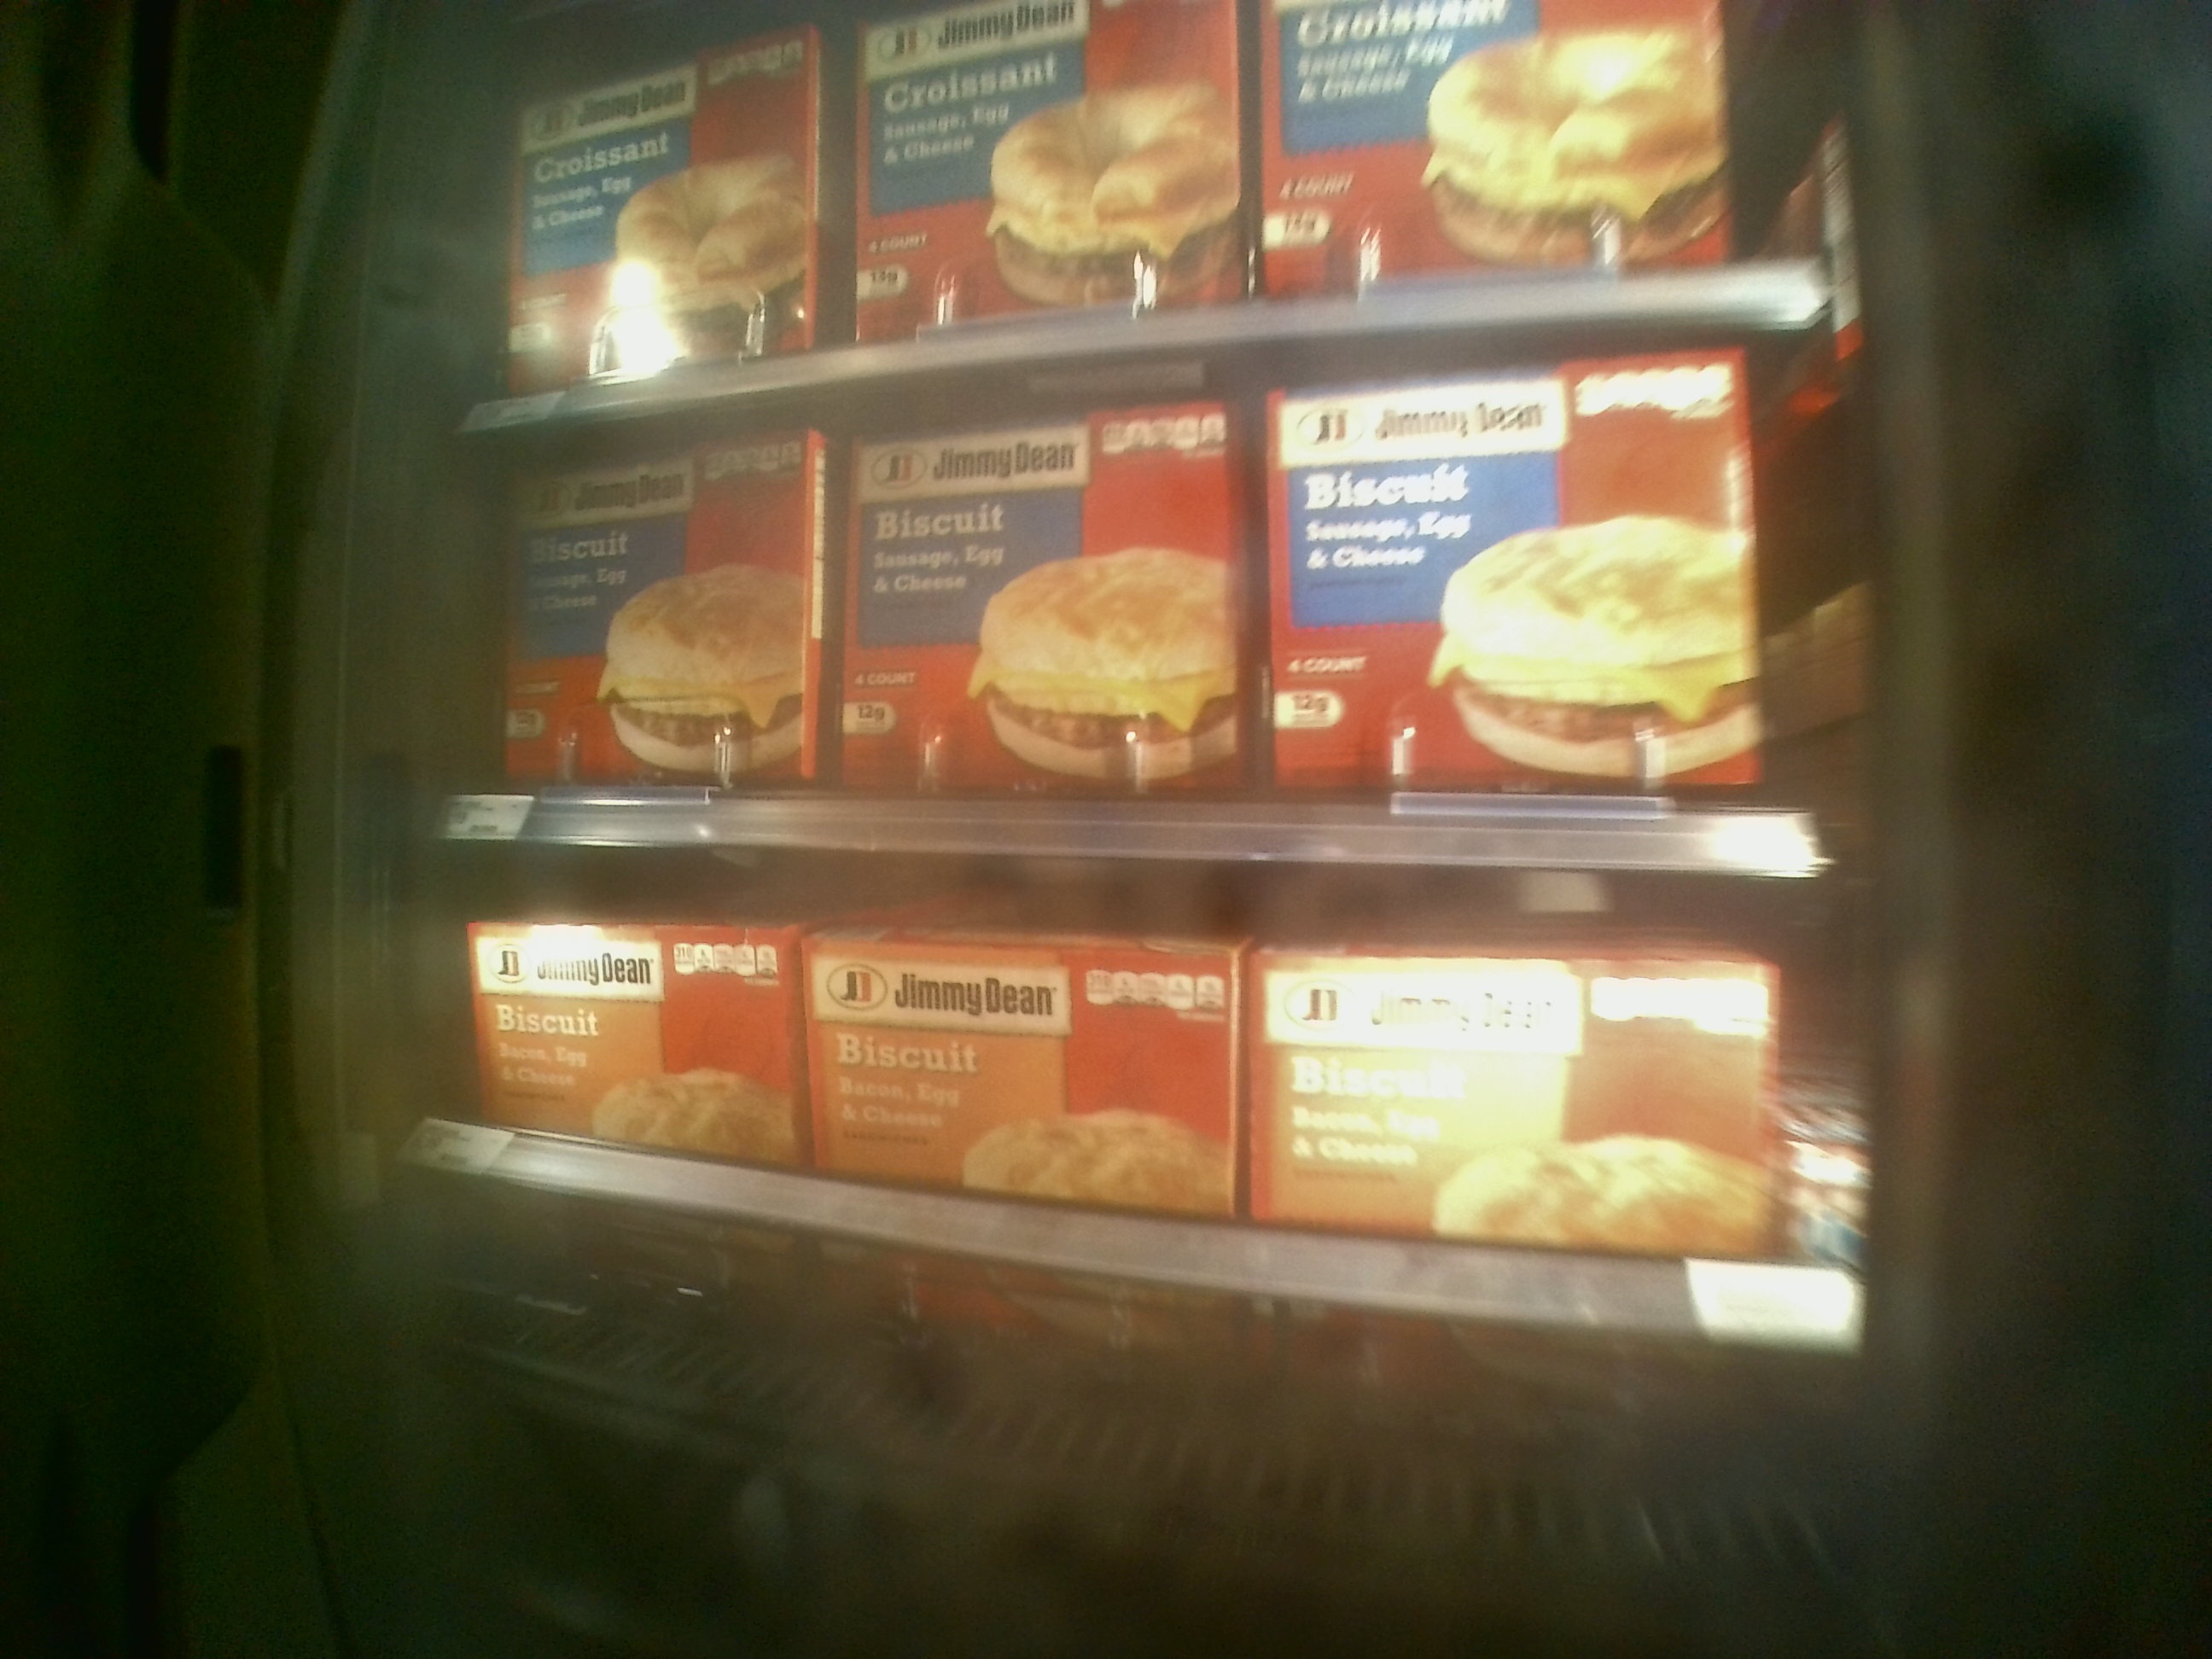shelf: (434, 336, 1857, 871)
